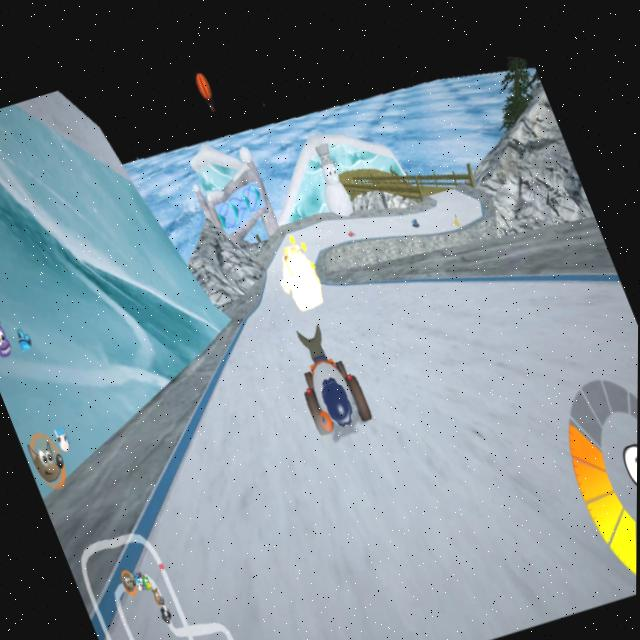enemy_kart: (407, 204, 424, 223), (343, 215, 358, 231)
obstacle: (447, 199, 465, 219)
player_kart: (277, 306, 377, 439)
track: (261, 217, 340, 323)
